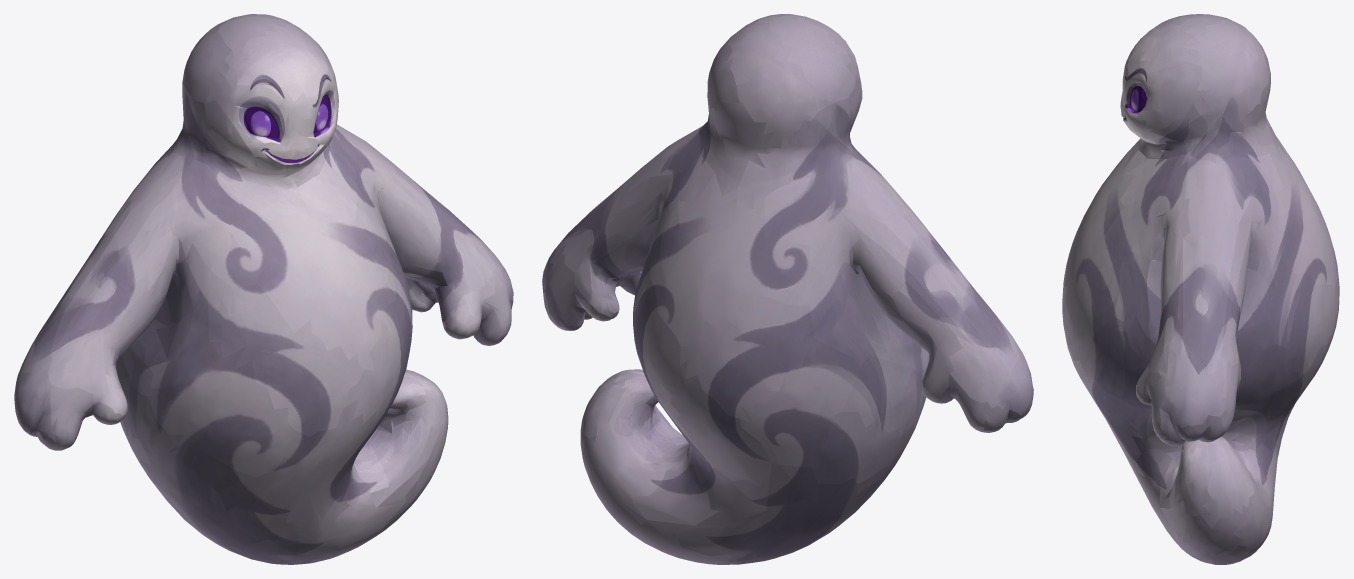
The model's file is shadow-wraith.hq.glb.
3 views of the same model, side by side, from view 1: azimuth 30°, elevation 25°; view 2: azimuth 150°, elevation 25°; view 3: azimuth 270°, elevation 25° (orthographic). The views are drawn at different scales.
Parts seen in each view (by area): view 1: output_unwrapped; view 2: output_unwrapped; view 3: output_unwrapped.
Boxes of the visible parts, x1,y1,x2,y2 form: output_unwrapped: [14, 14, 513, 564]; output_unwrapped: [542, 14, 1033, 564]; output_unwrapped: [1062, 14, 1339, 564].
Bounding box in the file's own units: 1.77 × 1.9 × 0.9555.
1 material, 1 textured.
